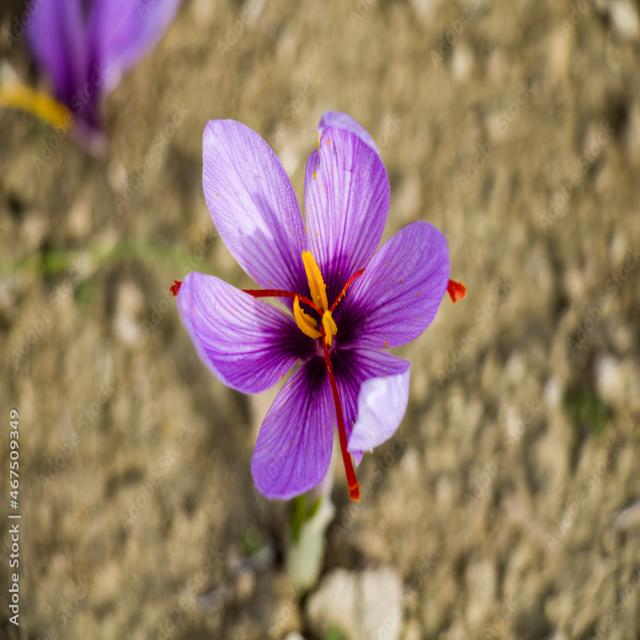saffron open: (178, 112, 450, 499)
